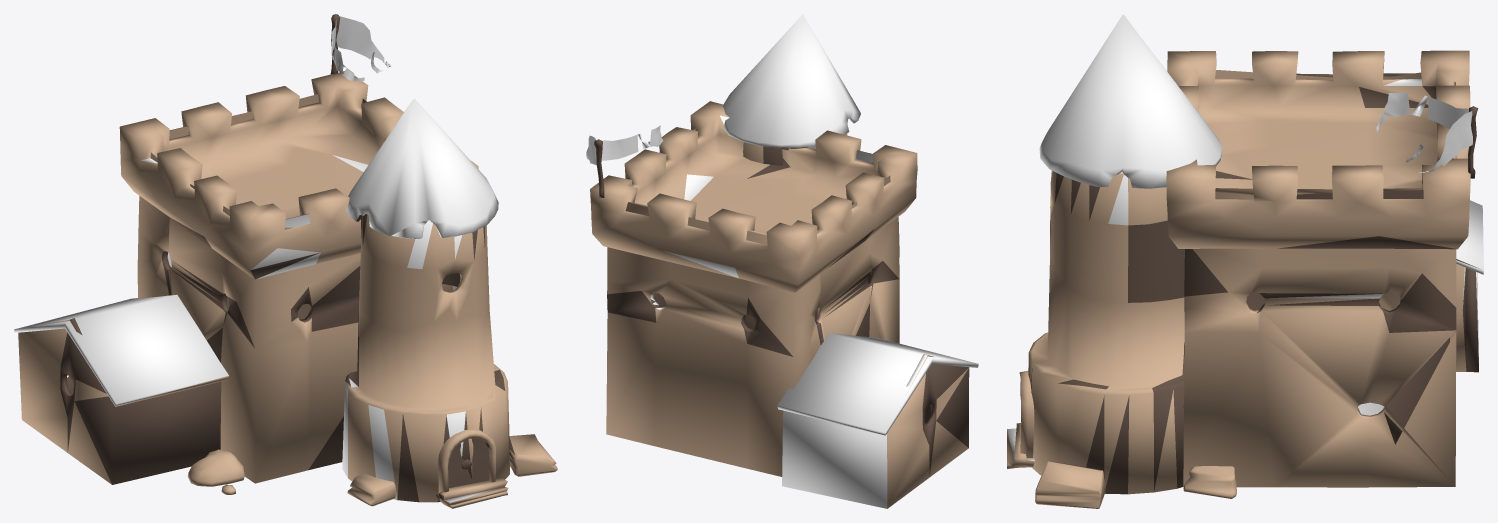
File: castle_d1.6.glb
3 views of the same model, side by side, from view 1: azimuth 30°, elevation 25°; view 2: azimuth 150°, elevation 25°; view 3: azimuth 270°, elevation 25° (orthographic). The views are drawn at different scales.
Parts seen in each view (by area): view 1: castle_d1.6; view 2: castle_d1.6; view 3: castle_d1.6.
Boxes of the visible parts, x1,y1,x2,y2 form: castle_d1.6: (14,14,557,508); castle_d1.6: (586,14,978,508); castle_d1.6: (1007,14,1483,508).
Size of the model in its own units: 2.9 by 2.9 by 2.9.
